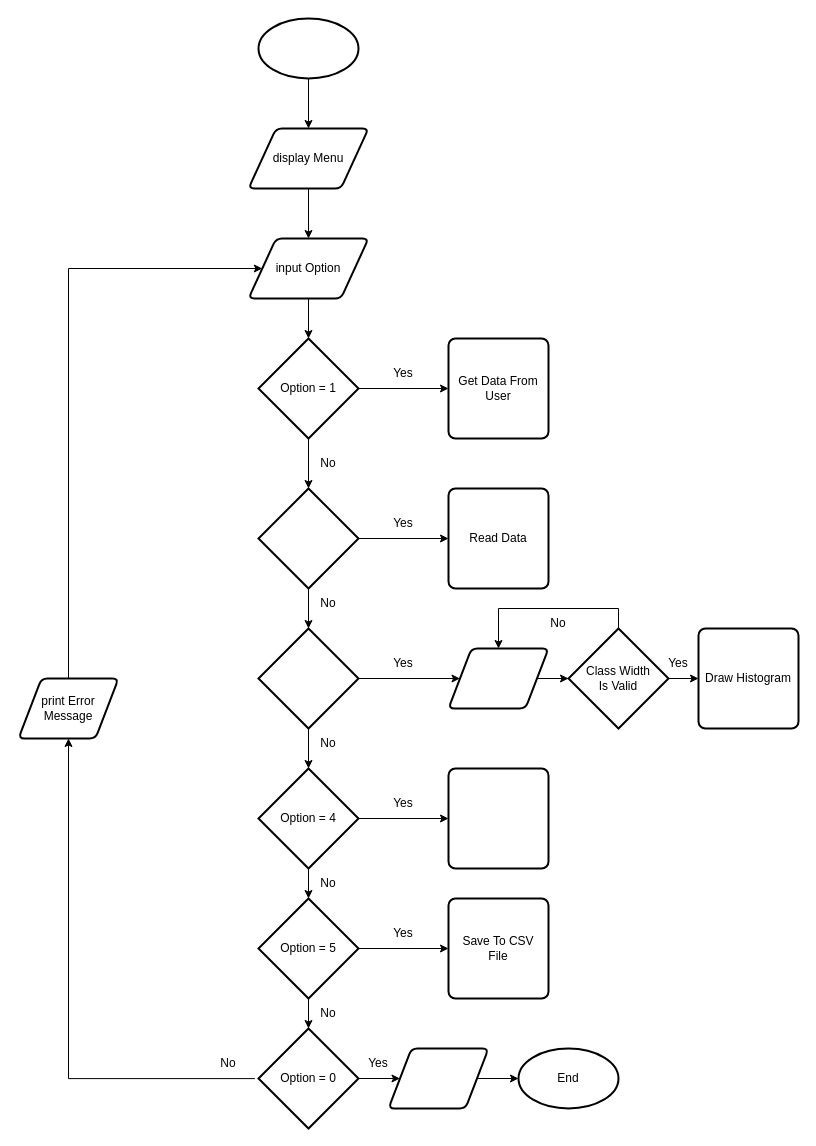
The diagram is 816 pixels wide and 1146 high, and some of its shapes have lost their labels. The shapes that lost their labels are listed below. From the top down, each one's centre as x and y in pixels, then its label:
the point at 308,48: Start
the point at 308,538: Option = 2
the point at 308,678: Option = 3
the point at 498,678: input Class Width
the point at 498,818: Show Statistics
the point at 438,1078: print End Message
